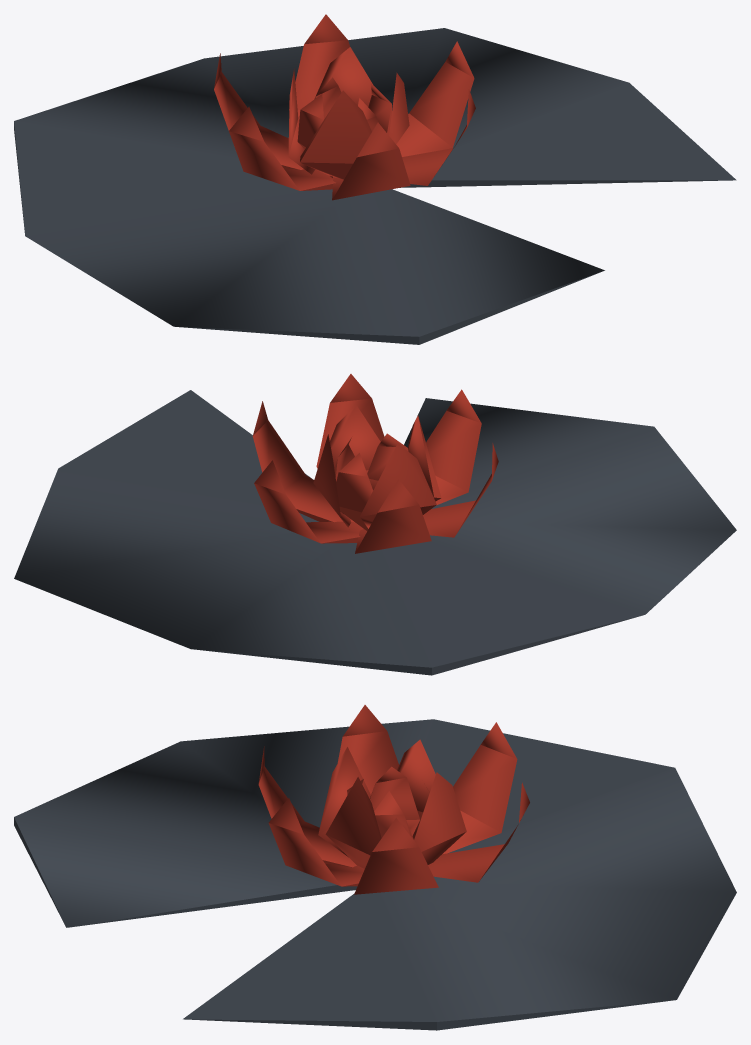
File: cc0-lily-pad-lod1.glb
3 views of the same model, one above another, from view 1: azimuth 30°, elevation 25°; view 2: azimuth 150°, elevation 25°; view 3: azimuth 270°, elevation 25° (orthographic). The views are drawn at different scales.
Visible parts, largest first — view 1: part_0; view 2: part_0; view 3: part_0.
Part boxes in pixels (bbox=[...]): part_0: bbox=[14, 14, 736, 344]; part_0: bbox=[14, 374, 736, 675]; part_0: bbox=[14, 705, 736, 1030].
Bounding box in the file's own units: 1.2 × 0.2209 × 1.19.
